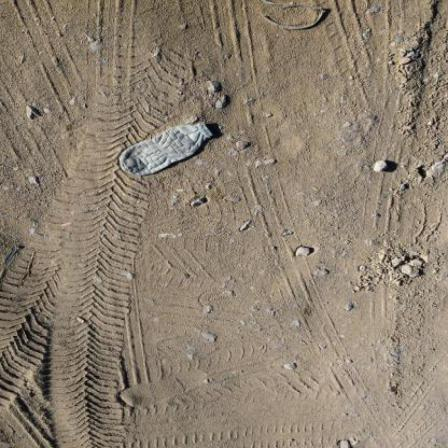Bottle: (121, 124, 215, 178)
Cigarette: (62, 223, 73, 227)
Other plastic: (261, 3, 325, 31), (7, 247, 19, 265)
